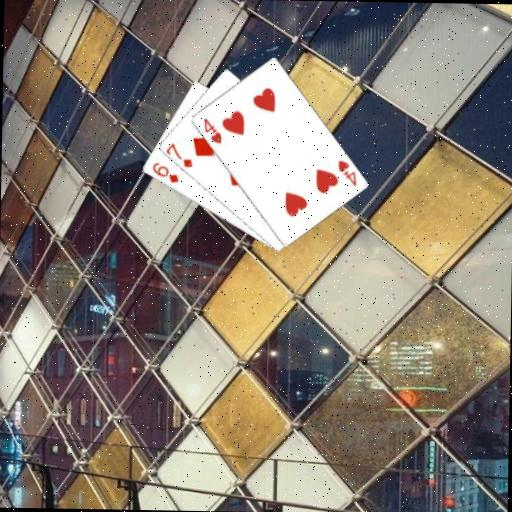4H: (200, 115, 224, 145), (334, 157, 358, 187)
6D: (149, 160, 181, 185)
7D: (163, 140, 194, 169)
